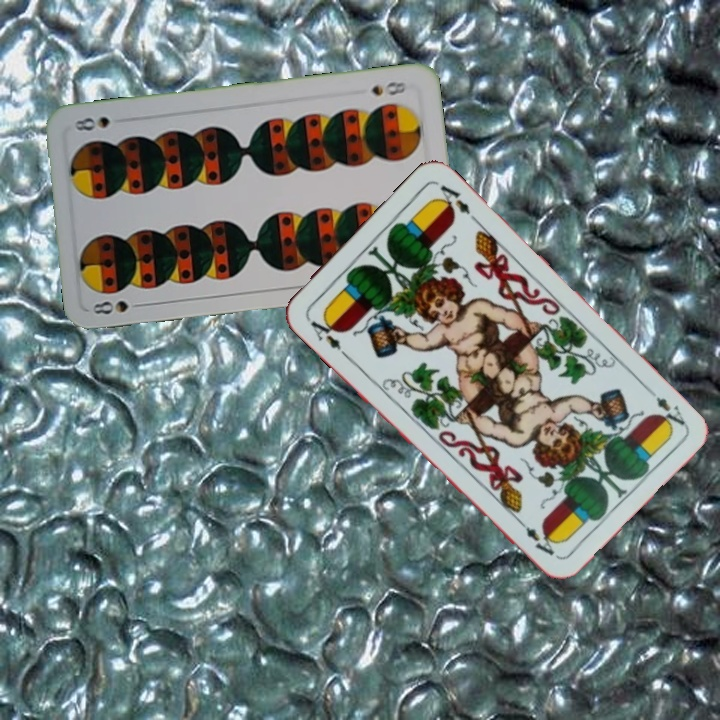EA: (303, 311, 344, 353), (652, 392, 688, 432)
S8: (88, 296, 148, 317), (368, 77, 410, 98)
